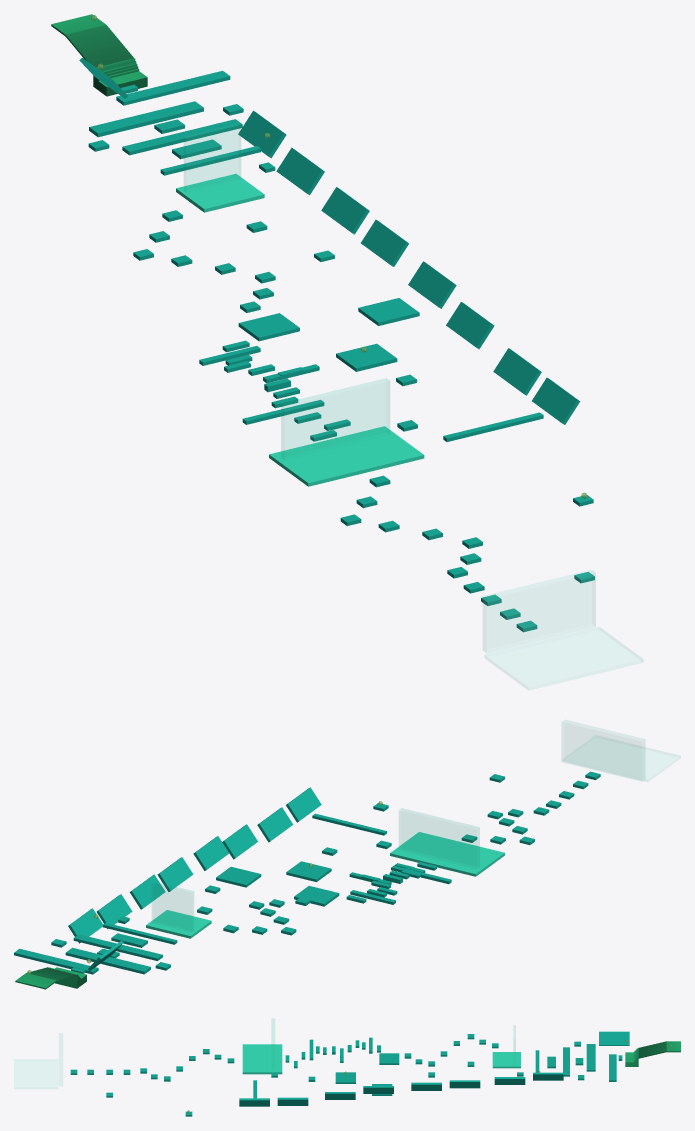
Rendered from level2.glb.
3 views of the same model, one above another, from view 1: azimuth 30°, elevation 25°; view 2: azimuth 150°, elevation 25°; view 3: azimuth 270°, elevation 25° (orthographic). The views are drawn at different scales.
Visible parts, largest first — view 1: Platform.018 (×14), Checkpoint_Wall (×2), Checkpoint (×2), End_Wall.003, End, Ramp.001; view 2: Platform.018 (×16), Checkpoint_Wall (×2), Checkpoint (×2), End_Wall.003, End, Ramp.001; view 3: Platform.018 (×14), Checkpoint (×2), End, Ramp.001, End_Wall.003.
Boxes of the visible parts, <box> form: Platform.018 (×14): <box>89,70,579,424</box>; Checkpoint_Wall (×2): <box>184,124,389,457</box>; Checkpoint (×2): <box>176,173,424,486</box>; End_Wall.003: <box>483,570,595,652</box>; End: <box>485,627,642,689</box>; Ramp.001: <box>51,14,147,96</box>; Platform.018 (×16): <box>14,787,386,974</box>; Checkpoint_Wall (×2): <box>152,809,479,930</box>; Checkpoint (×2): <box>146,832,504,938</box>; End_Wall.003: <box>562,720,644,780</box>; End: <box>563,736,680,781</box>; Ramp.001: <box>15,967,86,989</box>; Platform.018 (×14): <box>239,1031,629,1106</box>; Checkpoint (×2): <box>242,1044,520,1074</box>; End: <box>14,1060,57,1088</box>; Ramp.001: <box>625,1041,680,1066</box>; End_Wall.003: <box>59,1033,62,1085</box>.
Bounding box in the file's own units: 166 × 79.35 × 648.
Materials: 3 (3 with a texture image).
